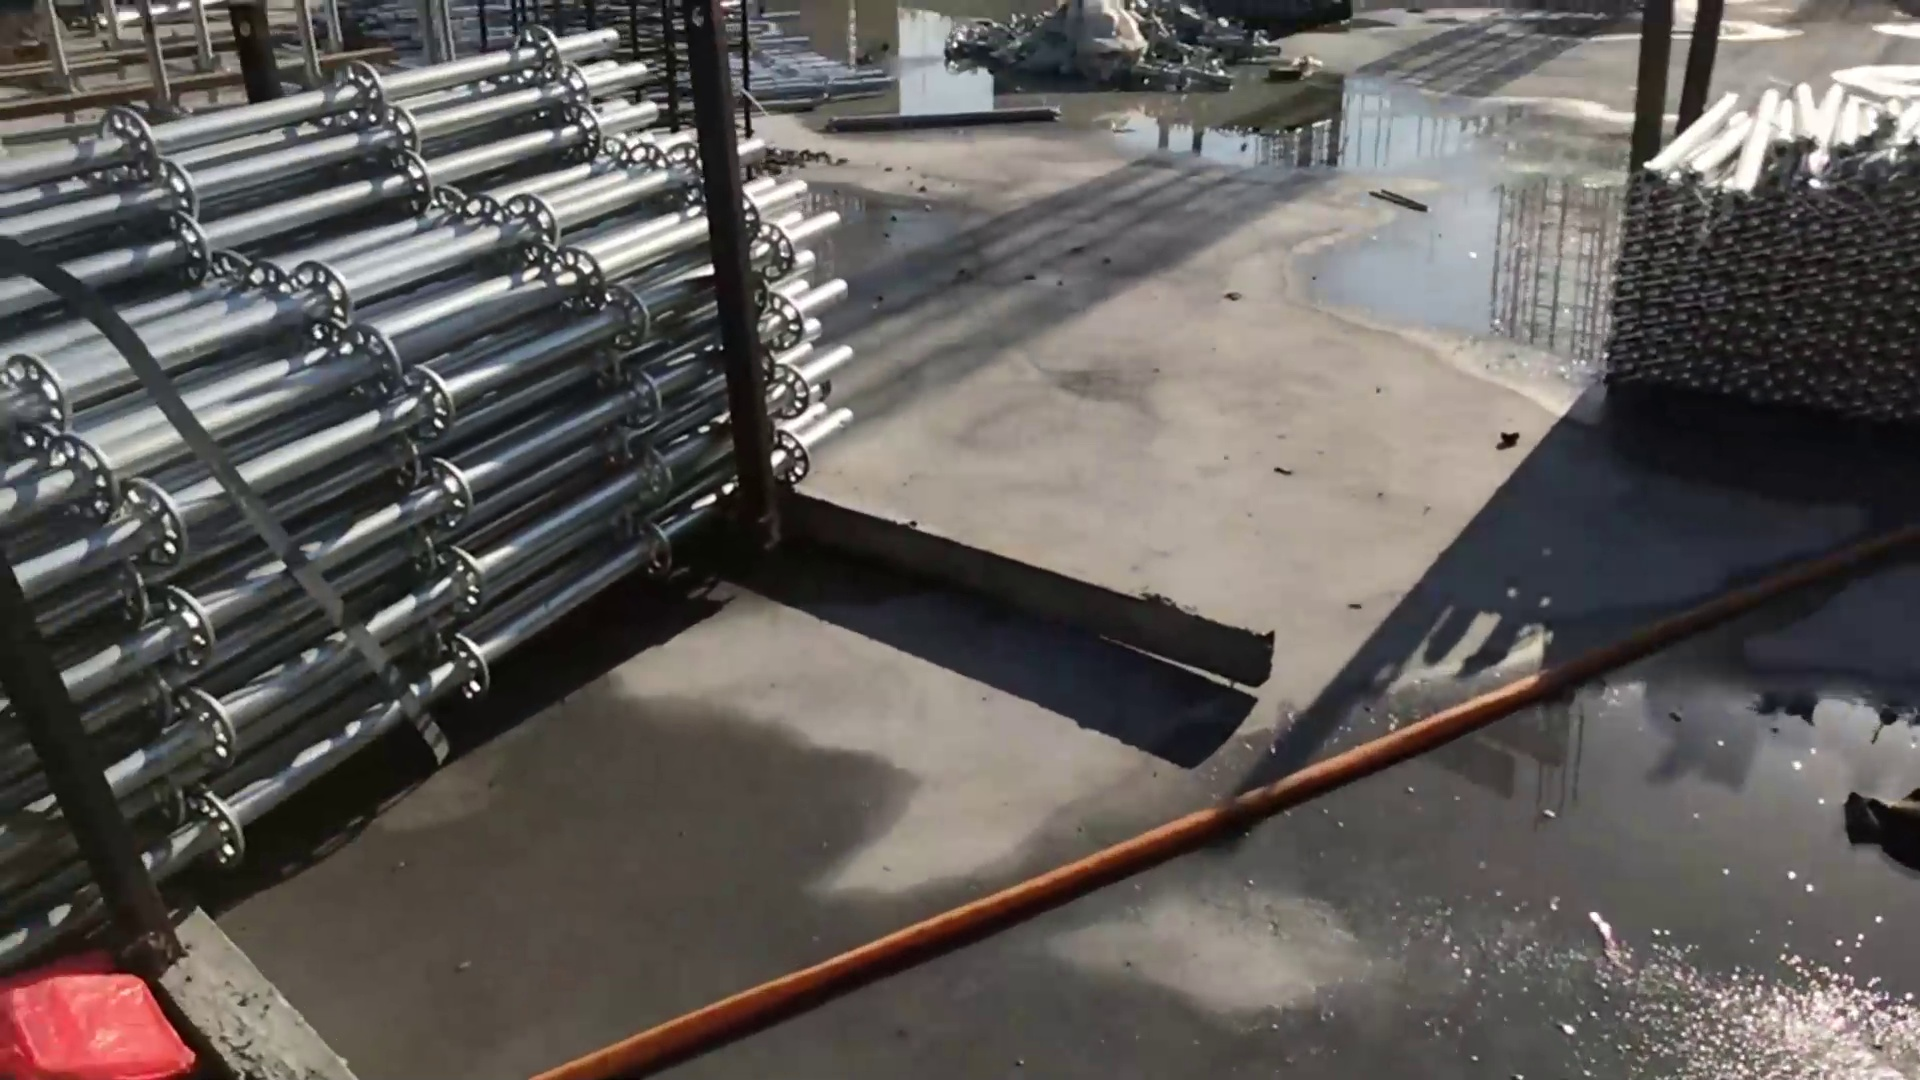scaffold: (1, 15, 855, 935), (1609, 79, 1920, 436)
